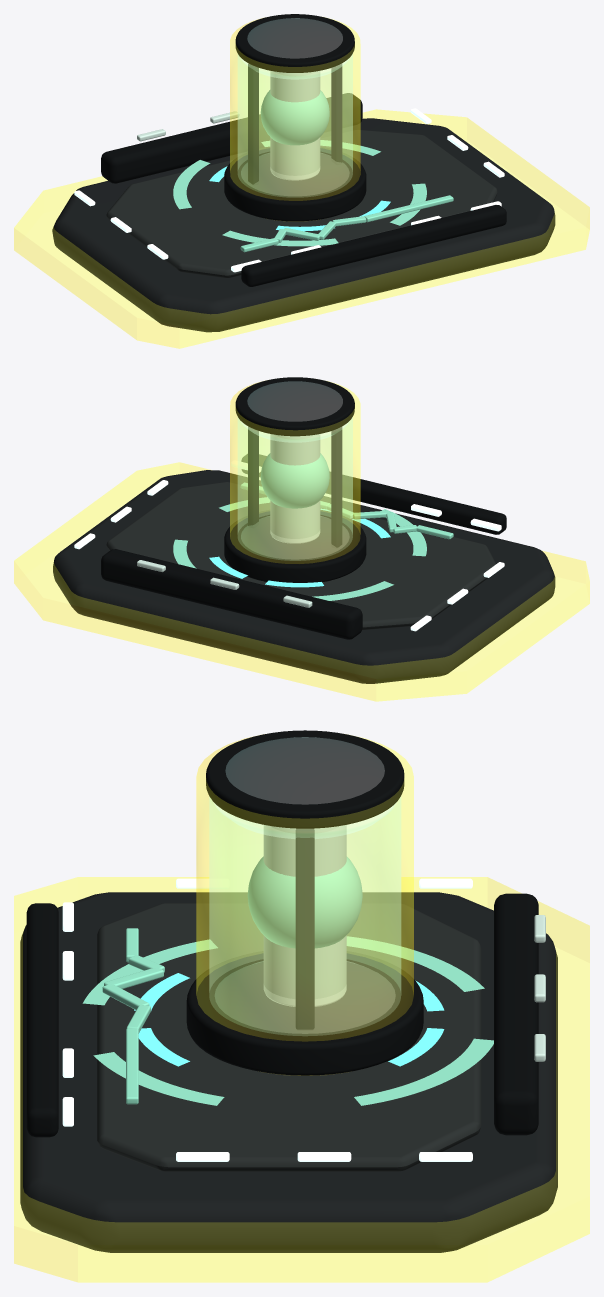
File: HealthRecoveryStation.fbx
The picture shows the model from 3 angles, top to bottom: view 1: azimuth 30°, elevation 25°; view 2: azimuth 150°, elevation 25°; view 3: azimuth 270°, elevation 25°; orthographic projection. The views are drawn at different scales.
Visible parts, largest first — view 1: StationBase_DarkGunmetal, LocatorMarkerProxy, StationBase_RecessedTopPlate_Charcoal, LocatorMarkerProxy_HealingCore, LifeSupportCapsule_Transparent_Tube, LifeSupportCapsule_BaseClamp_BlackMetal, StationBase_FrontSoftApproachLip_BlackMetal, StationBase_RearServiceSpine_BlackMetal, LifeSupportCapsule_TopClamp_BlackMetal, LifeSupportCapsule_Transparent_TopDome, HealingCore_MintWhiteEmissive, HealingCore_MintWhiteEmissive_PulseOrb (+6 smaller); view 2: StationBase_DarkGunmetal, LocatorMarkerProxy, StationBase_RecessedTopPlate_Charcoal, LocatorMarkerProxy_HealingCore, LifeSupportCapsule_Transparent_Tube, StationBase_RearServiceSpine_BlackMetal, LifeSupportCapsule_BaseClamp_BlackMetal, LifeSupportCapsule_TopClamp_BlackMetal, StationBase_FrontSoftApproachLip_BlackMetal, LifeSupportCapsule_Transparent_TopDome, HealingCore_MintWhiteEmissive, HealingCore_MintWhiteEmissive_PulseOrb (+4 smaller); view 3: StationBase_DarkGunmetal, StationBase_RecessedTopPlate_Charcoal, LocatorMarkerProxy, LocatorMarkerProxy_HealingCore, LifeSupportCapsule_Transparent_Tube, LifeSupportCapsule_BaseClamp_BlackMetal, LifeSupportCapsule_TopClamp_BlackMetal, StationBase_RearServiceSpine_BlackMetal, LifeSupportCapsule_Transparent_TopDome, StationBase_FrontSoftApproachLip_BlackMetal, HealingCore_MintWhiteEmissive, HealingCore_MintWhiteEmissive_PulseOrb (+8 smaller).
Boxes of the visible parts, x1,y1,x2,y2 form: StationBase_DarkGunmetal: [52, 118, 555, 332]; LocatorMarkerProxy: [14, 109, 589, 348]; StationBase_RecessedTopPlate_Charcoal: [106, 129, 497, 278]; LocatorMarkerProxy_HealingCore: [230, 18, 360, 200]; LifeSupportCapsule_Transparent_Tube: [238, 54, 352, 196]; LifeSupportCapsule_BaseClamp_BlackMetal: [224, 147, 366, 221]; StationBase_FrontSoftApproachLip_BlackMetal: [241, 205, 506, 286]; StationBase_RearServiceSpine_BlackMetal: [101, 93, 362, 183]; LifeSupportCapsule_TopClamp_BlackMetal: [235, 14, 354, 72]; LifeSupportCapsule_Transparent_TopDome: [241, 18, 349, 79]; HealingCore_MintWhiteEmissive: [270, 71, 320, 180]; HealingCore_MintWhiteEmissive_PulseOrb: [260, 90, 329, 145]; StationBase_DarkGunmetal: [53, 470, 555, 683]; LocatorMarkerProxy: [14, 462, 589, 701]; StationBase_RecessedTopPlate_Charcoal: [106, 482, 495, 629]; LocatorMarkerProxy_HealingCore: [230, 381, 360, 563]; LifeSupportCapsule_Transparent_Tube: [238, 417, 352, 560]; StationBase_RearServiceSpine_BlackMetal: [101, 549, 362, 639]; LifeSupportCapsule_BaseClamp_BlackMetal: [224, 510, 366, 582]; LifeSupportCapsule_TopClamp_BlackMetal: [235, 377, 354, 436]; StationBase_FrontSoftApproachLip_BlackMetal: [241, 454, 506, 534]; LifeSupportCapsule_Transparent_TopDome: [241, 381, 349, 442]; HealingCore_MintWhiteEmissive: [270, 434, 320, 543]; HealingCore_MintWhiteEmissive_PulseOrb: [260, 453, 329, 508]; StationBase_DarkGunmetal: [20, 892, 557, 1252]; StationBase_RecessedTopPlate_Charcoal: [97, 903, 481, 1171]; LocatorMarkerProxy: [14, 877, 589, 1282]; LocatorMarkerProxy_HealingCore: [196, 737, 413, 1040]; LifeSupportCapsule_Transparent_Tube: [209, 797, 400, 1035]; LifeSupportCapsule_BaseClamp_BlackMetal: [186, 951, 423, 1075]; LifeSupportCapsule_TopClamp_BlackMetal: [206, 730, 404, 828]; StationBase_RearServiceSpine_BlackMetal: [494, 893, 538, 1135]; LifeSupportCapsule_Transparent_TopDome: [214, 737, 395, 838]; StationBase_FrontSoftApproachLip_BlackMetal: [26, 903, 58, 1137]; HealingCore_MintWhiteEmissive: [263, 825, 346, 1006]; HealingCore_MintWhiteEmissive_PulseOrb: [247, 856, 362, 948].
Bounding box in the file's own units: 1.36 × 0.59 × 0.9.
